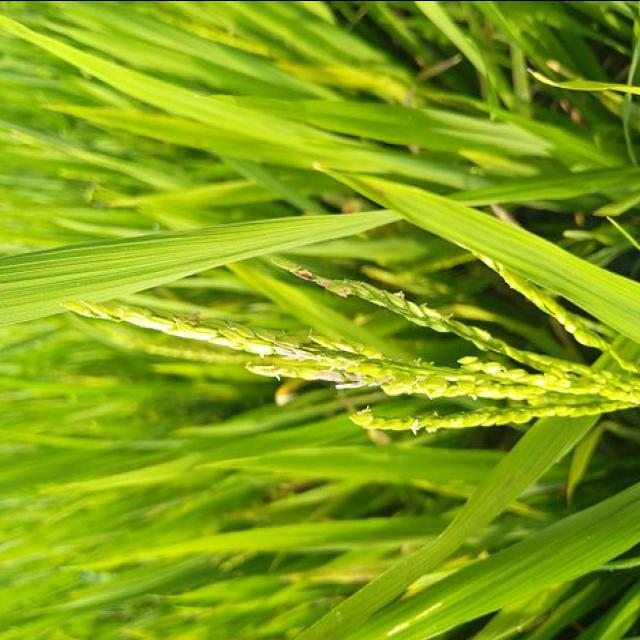Panicle Blight: (271, 255, 363, 297), (312, 369, 376, 388)
